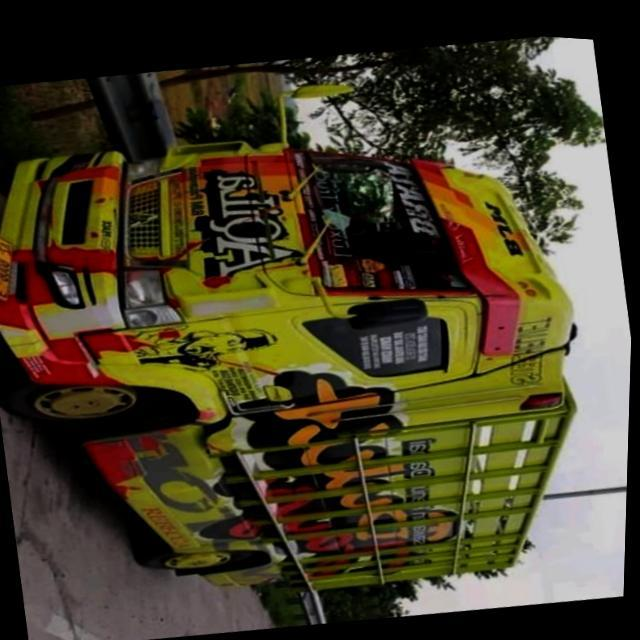truck: (0, 22, 624, 640)
